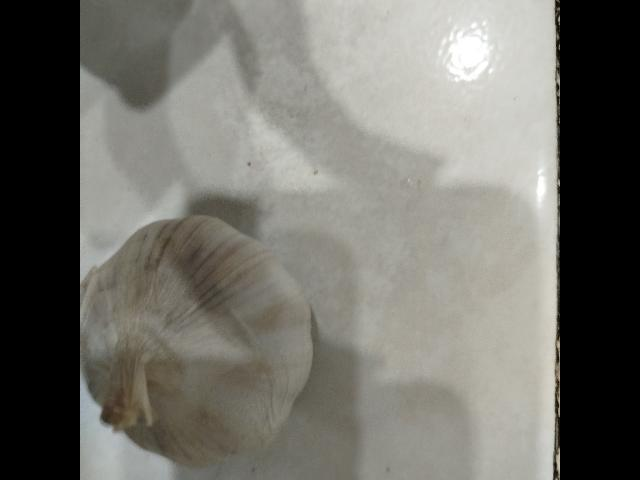garlic: (80, 214, 314, 468)
